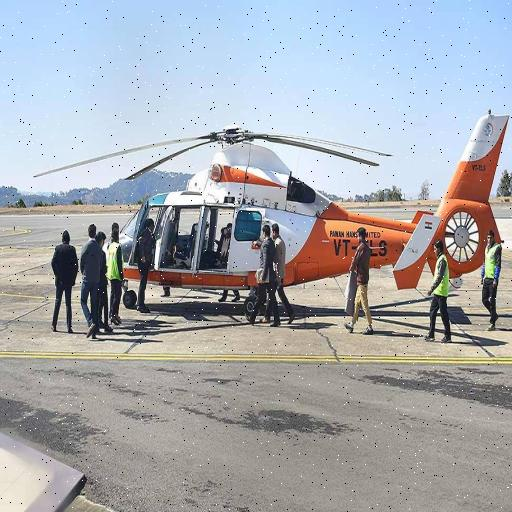helicopter: (34, 108, 512, 306)
